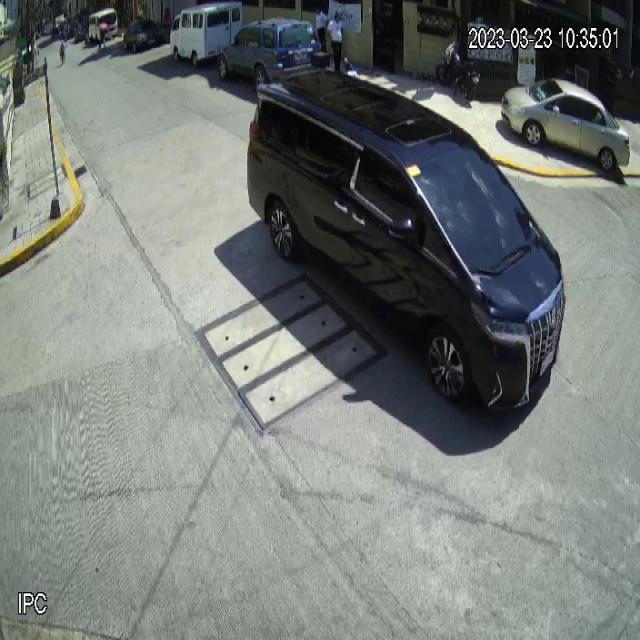Car: (245, 69, 567, 413), (501, 78, 632, 173), (217, 17, 323, 89)
Van: (170, 1, 242, 67)
